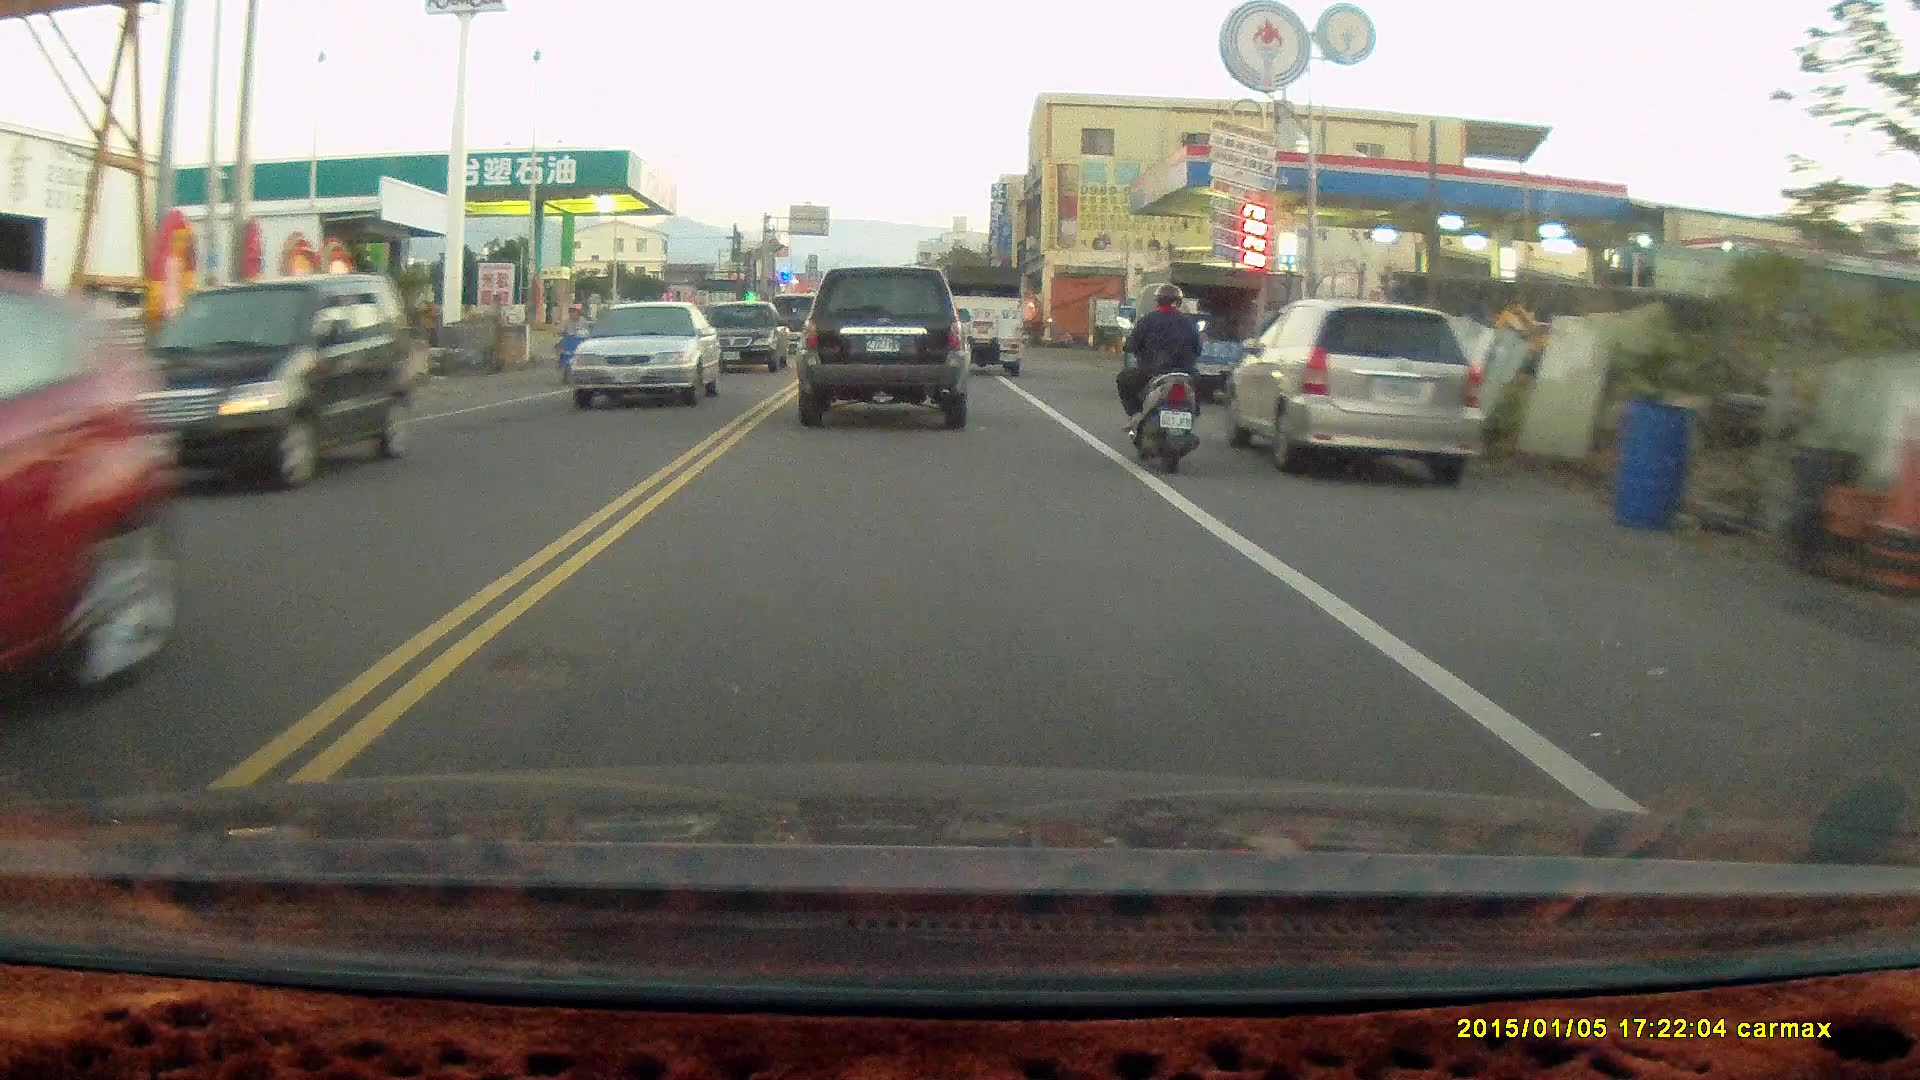rider: (1111, 279, 1208, 469), (550, 299, 600, 386)
vehicle: (1, 281, 183, 739), (71, 273, 414, 498), (1232, 295, 1485, 487), (794, 266, 972, 430), (1118, 257, 1264, 394), (566, 298, 724, 408), (938, 260, 1023, 376), (703, 297, 792, 370)
